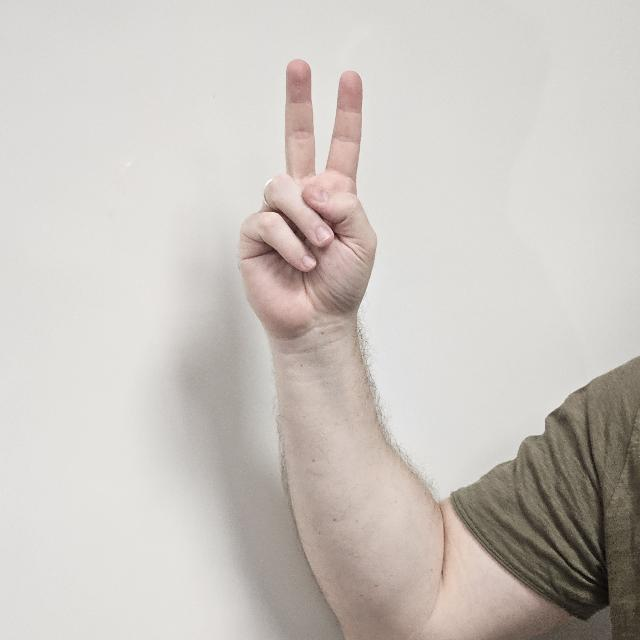Triangulo: (236, 61, 388, 376)
